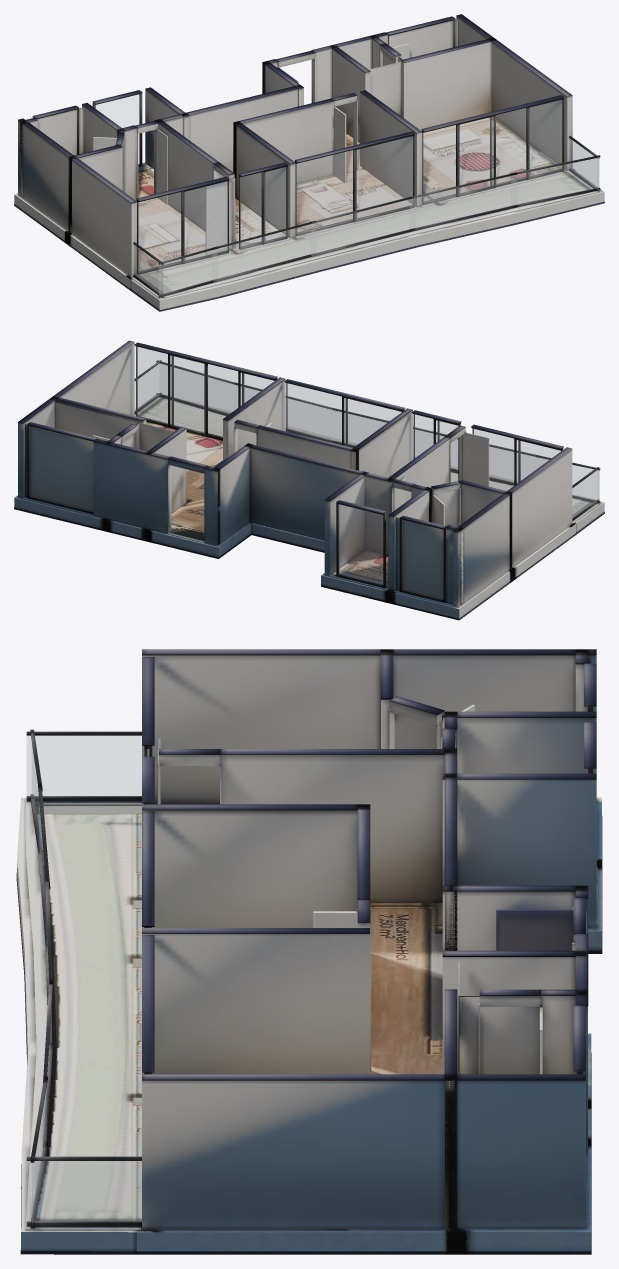
The picture shows the model from 3 angles, top to bottom: view 1: azimuth 30°, elevation 25°; view 2: azimuth 150°, elevation 25°; view 3: azimuth 270°, elevation 25°; orthographic projection. The views are drawn at different scales.
Visible parts, largest first — view 1: plan, glass6_m, glass5_m, glass3_m, railg3_m, railg4_m, railg5_m, glass4_m, railg2_m, railg6_m, glass1_m, railg1_m (+1 smaller); view 2: plan, glass6_m, glass2_m, glass5_m, glass1_m, glass0_m, glass3_m, railg2_m, railg3_m, glass4_m, railg5_m, railg4_m (+3 smaller); view 3: plan, railg0_m, railg1_m.
Part boxes in pixels (x1,y1,x2,y2): plan: (14, 14, 604, 311); glass6_m: (423, 100, 561, 202); glass5_m: (296, 136, 412, 233); glass3_m: (138, 182, 227, 271); railg3_m: (410, 175, 516, 228); railg4_m: (311, 198, 414, 254); railg5_m: (212, 223, 315, 279); glass4_m: (240, 167, 285, 246); railg2_m: (511, 158, 599, 205); railg6_m: (159, 249, 217, 294); glass1_m: (96, 94, 139, 163); railg1_m: (134, 245, 162, 295); plan: (14, 340, 604, 620); glass6_m: (136, 346, 273, 437); glass2_m: (30, 427, 92, 511); glass5_m: (286, 383, 401, 447); glass1_m: (338, 504, 382, 584); glass0_m: (402, 520, 442, 599); glass3_m: (472, 428, 560, 490); railg2_m: (160, 364, 233, 413); railg3_m: (241, 387, 332, 439); glass4_m: (413, 414, 457, 481); railg5_m: (436, 435, 536, 482); railg4_m: (339, 412, 432, 457); plan: (16, 649, 602, 1254); railg0_m: (27, 1161, 141, 1221); railg1_m: (27, 736, 141, 796).
Size of the model in its own units: 14.18 by 2.62 by 8.06.
Materials: 2 (1 with a texture image).
